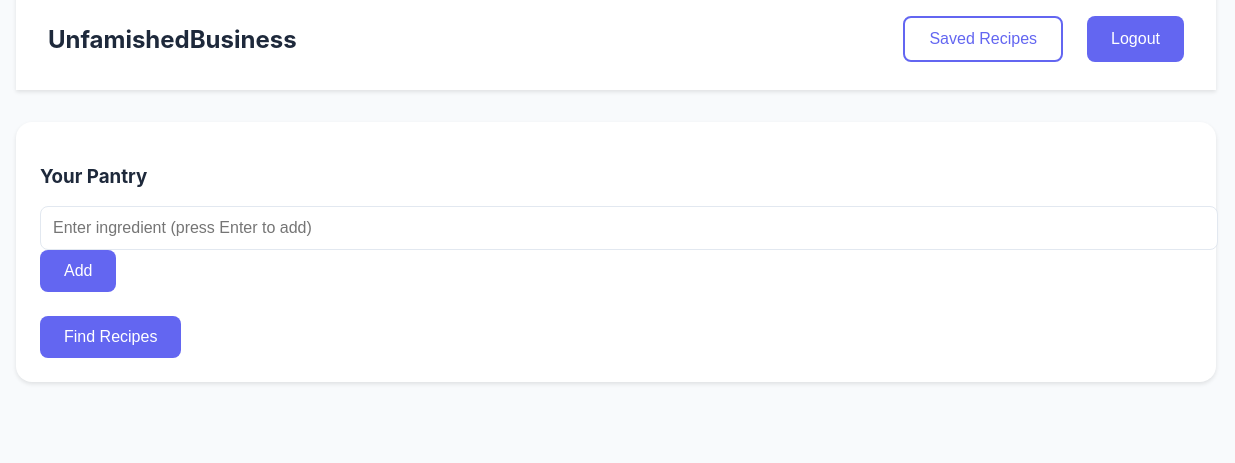
Scenario: Add ingredient functionality › Add 1 ingredient and display
Step 1. Type "tomato" into the field with placeholder "Enter ingredient (press Enter to add)" → (629, 228), box 40,206 -> 1218,250
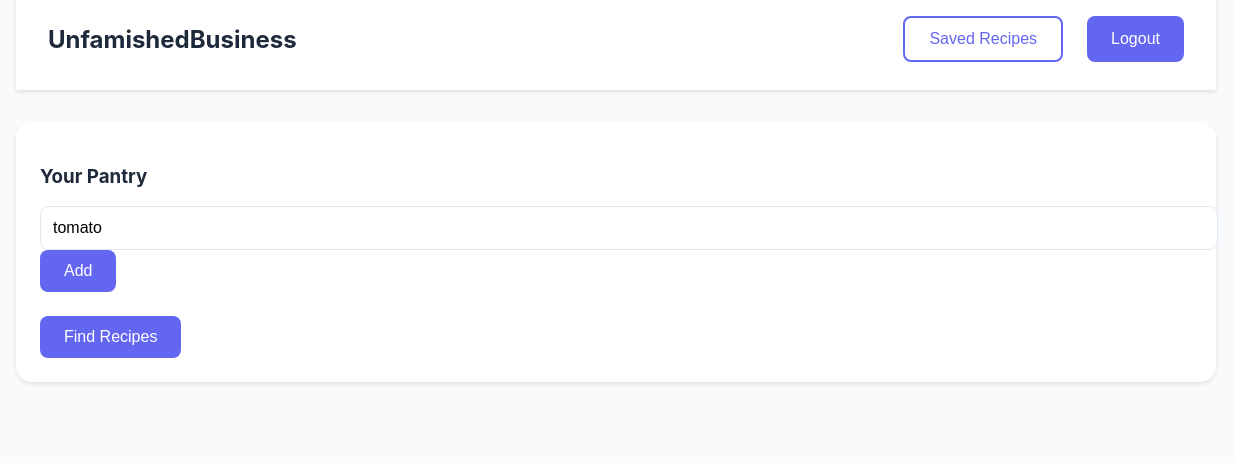
Step 2. Click the button "Add" → (78, 271), box 40,250 -> 116,292
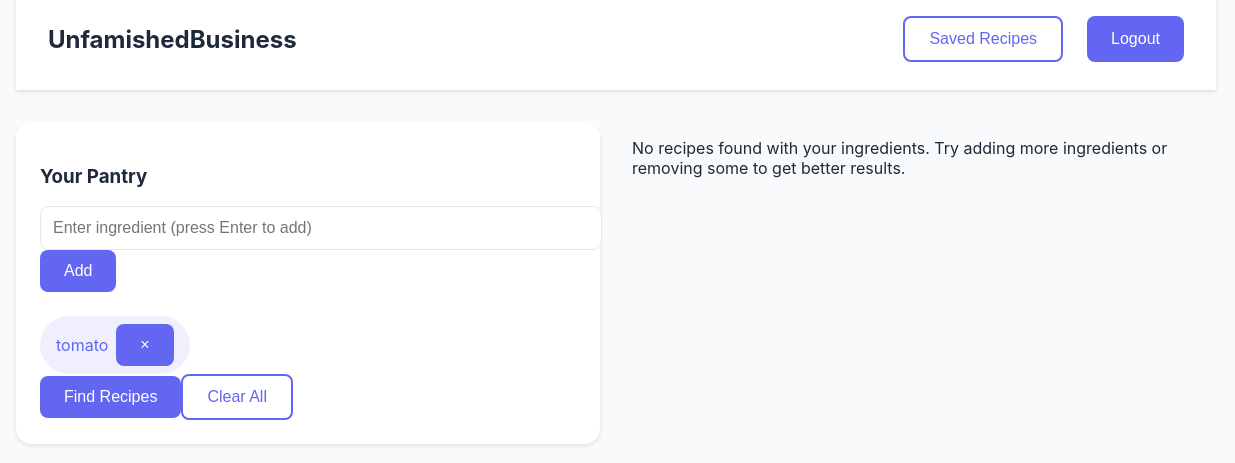
Result: the text "tomato" is shown at 56,335 -> 108,355
